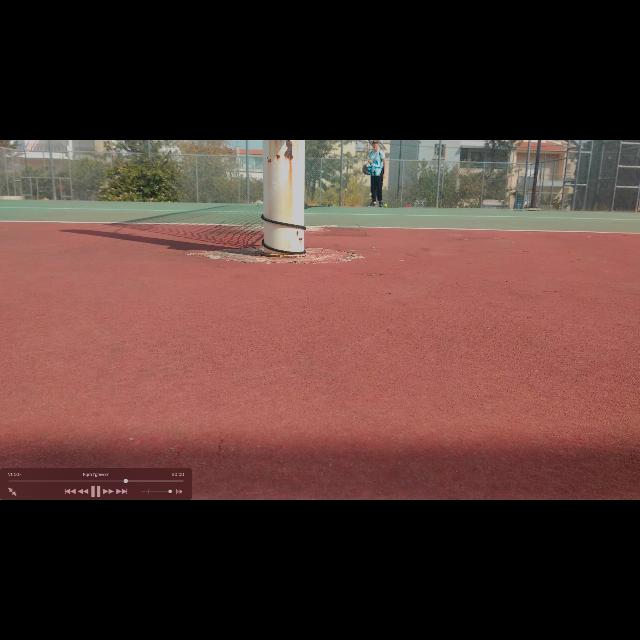Tennis Ball: (384, 203, 387, 207)
